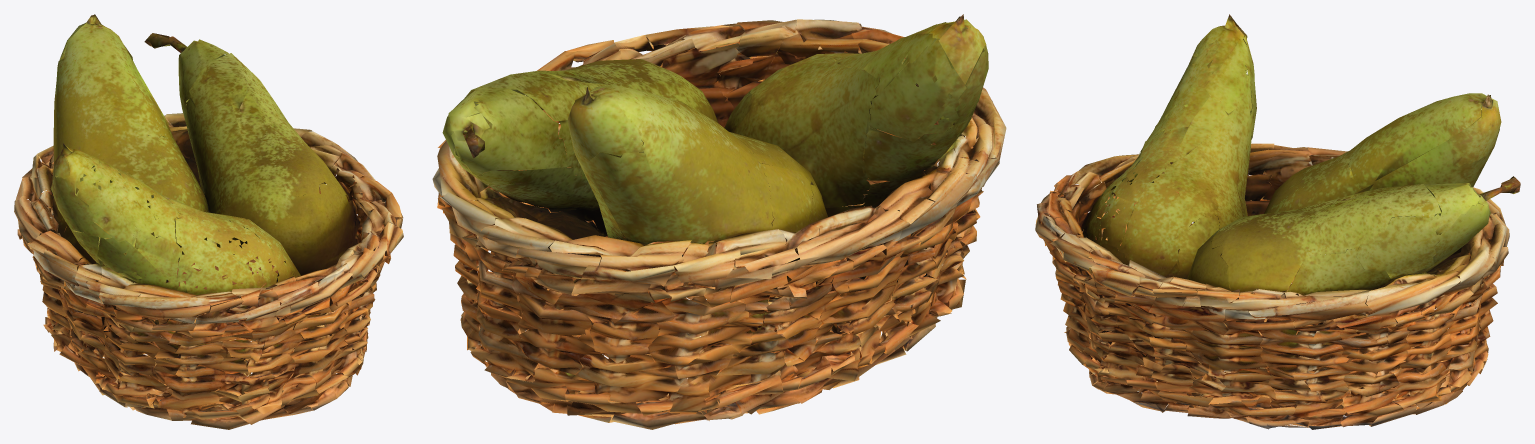
Rendered from fruit_basket.glb.
3 renders of one model, left to right at view 1: azimuth 30°, elevation 25°; view 2: azimuth 150°, elevation 25°; view 3: azimuth 270°, elevation 25°, orthographic. The views are drawn at different scales.
Parts seen in each view (by area): view 1: Object_2, Object_3; view 2: Object_2, Object_3; view 3: Object_2, Object_3.
Boxes of the visible parts, x1,y1,x2,y2 form: Object_2: [14, 14, 391, 429]; Object_3: [50, 143, 403, 414]; Object_2: [432, 16, 999, 429]; Object_3: [461, 14, 1006, 388]; Object_2: [1035, 16, 1520, 429]; Object_3: [1043, 14, 1416, 429].
Bounding box in the file's own units: 1.32 × 0.9736 × 1.56.
Materials: 1 (1 with a texture image).
